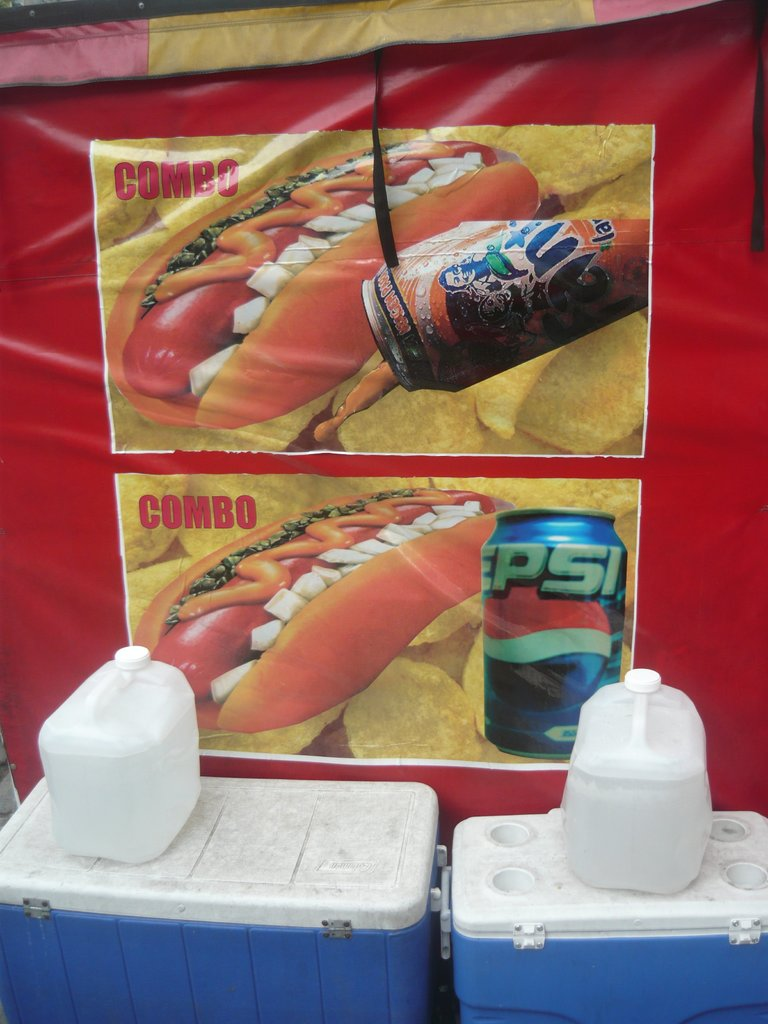hot_dog: (155, 103, 553, 493), (130, 483, 492, 728)
